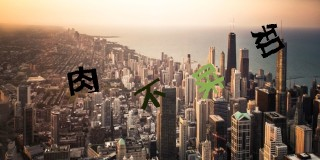不: (133, 77, 167, 108)
味: (191, 62, 226, 97)
知: (248, 19, 286, 59)
肉: (65, 64, 101, 97)
